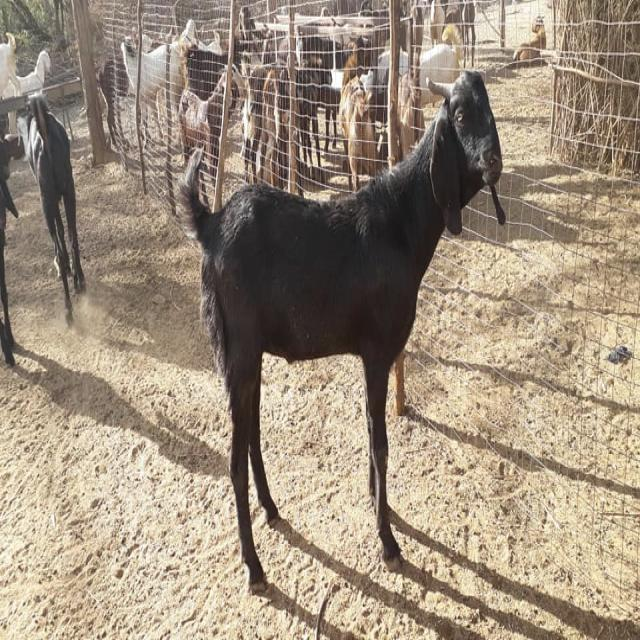Goat: (177, 66, 506, 594), (21, 94, 87, 326), (513, 14, 547, 63)
